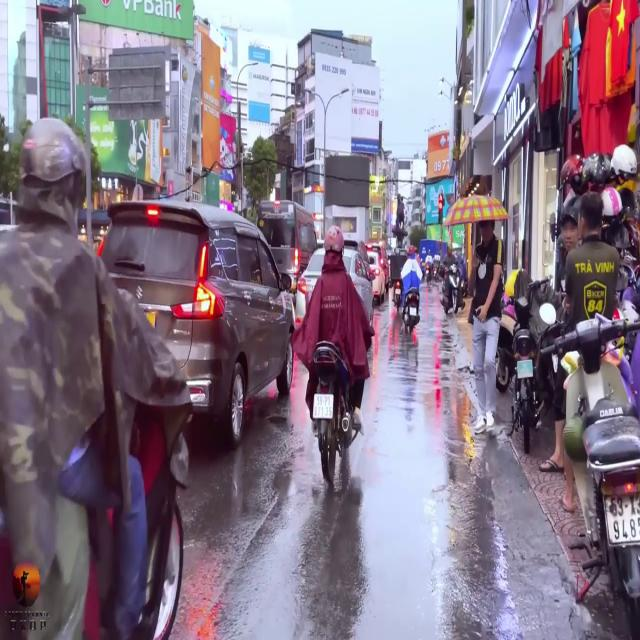bien_trang: (602, 489, 640, 550), (310, 391, 338, 423)
